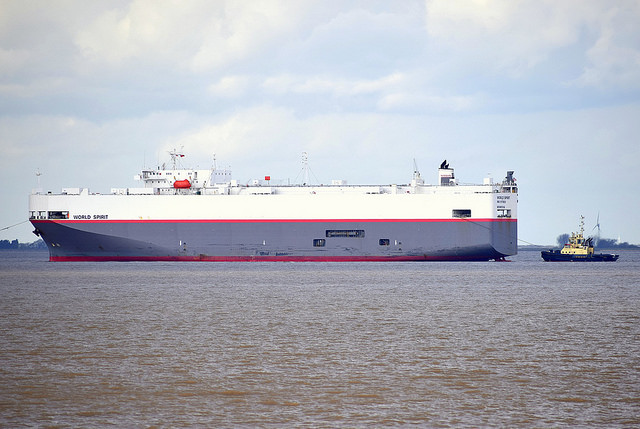PCC: (25, 159, 520, 264)
tug_boat: (542, 211, 620, 261)
